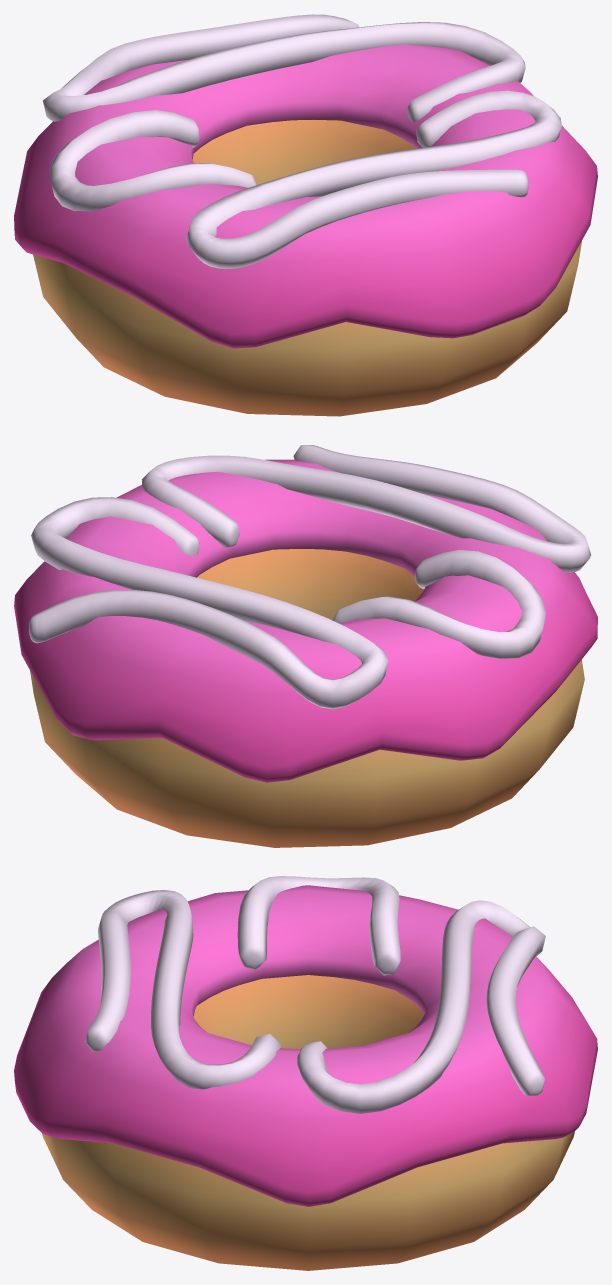
The model's file is Donut_V2_01.fbx.
3 views of the same model, one above another, from view 1: azimuth 30°, elevation 25°; view 2: azimuth 150°, elevation 25°; view 3: azimuth 270°, elevation 25° (orthographic).
Parts seen in each view (by area): view 1: Donut_V2_01; view 2: Donut_V2_01; view 3: Donut_V2_01.
Boxes of the visible parts, x1,y1,x2,y2 form: Donut_V2_01: (14, 14, 597, 416); Donut_V2_01: (14, 445, 597, 847); Donut_V2_01: (14, 876, 597, 1270).
Size of the model in its own units: 42.98 by 18.23 by 43.01.
